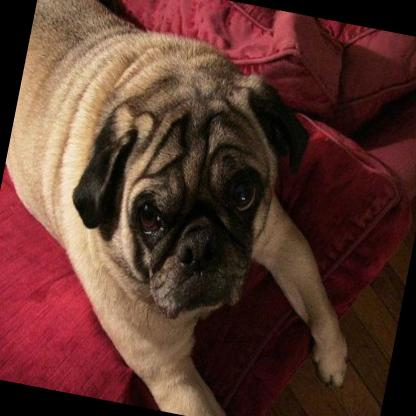pug: (0, 0, 412, 416)
